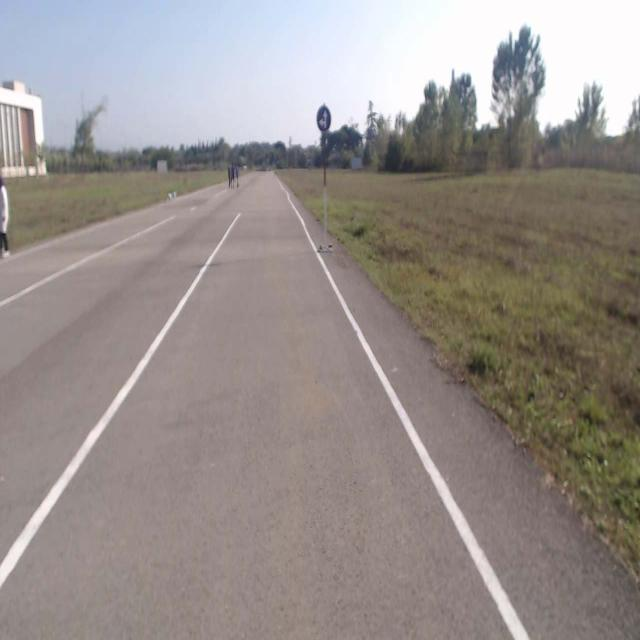ilerisol: (316, 105, 330, 131)
